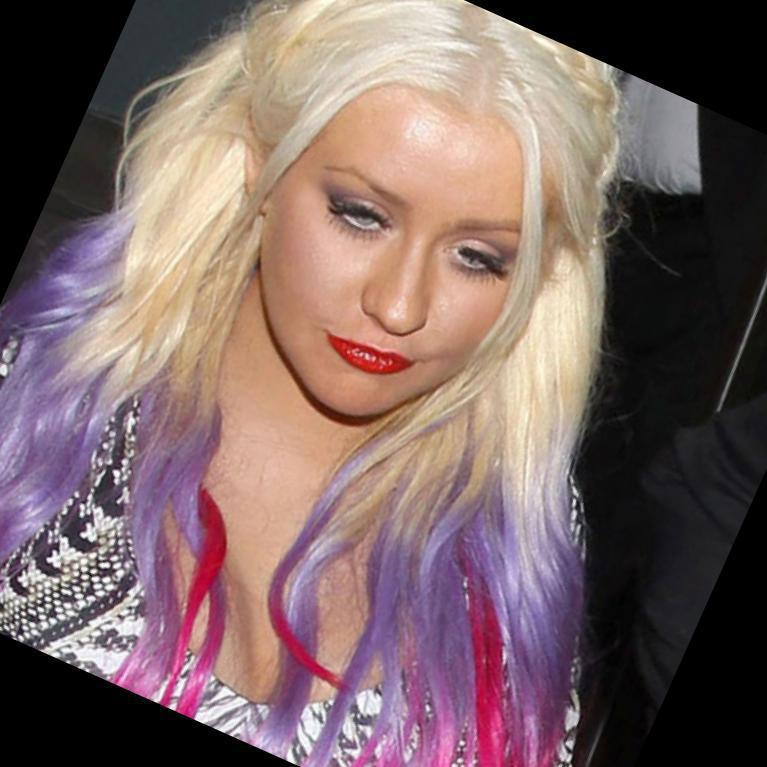Drunk: (287, 100, 507, 396)
